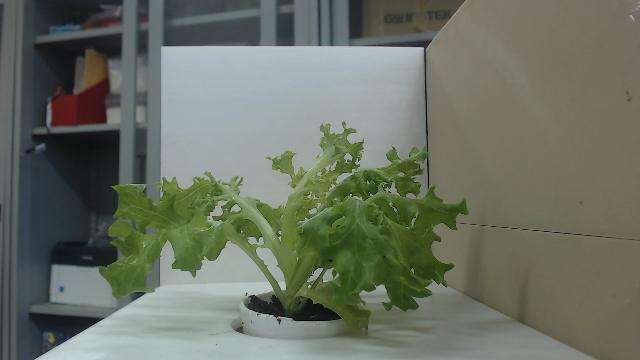Harvest Stage: (100, 119, 470, 340)
